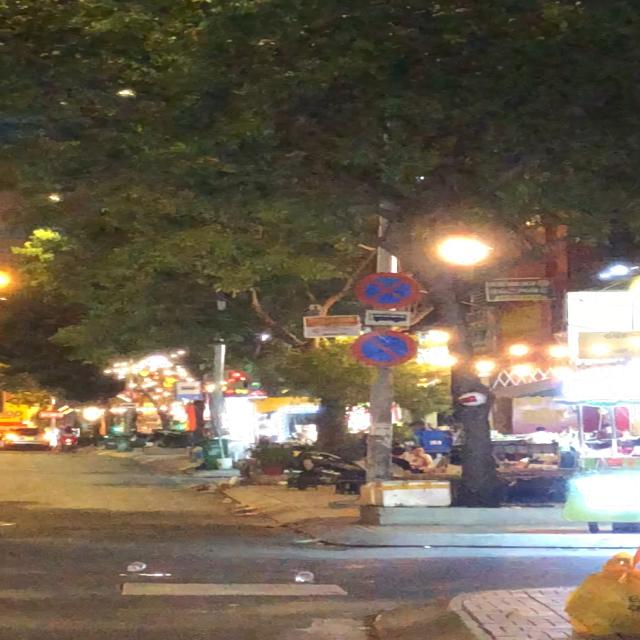Bien bao cam do xe: (352, 330, 422, 370)
Bien bao cam dung xe va do xe: (354, 270, 422, 310)
